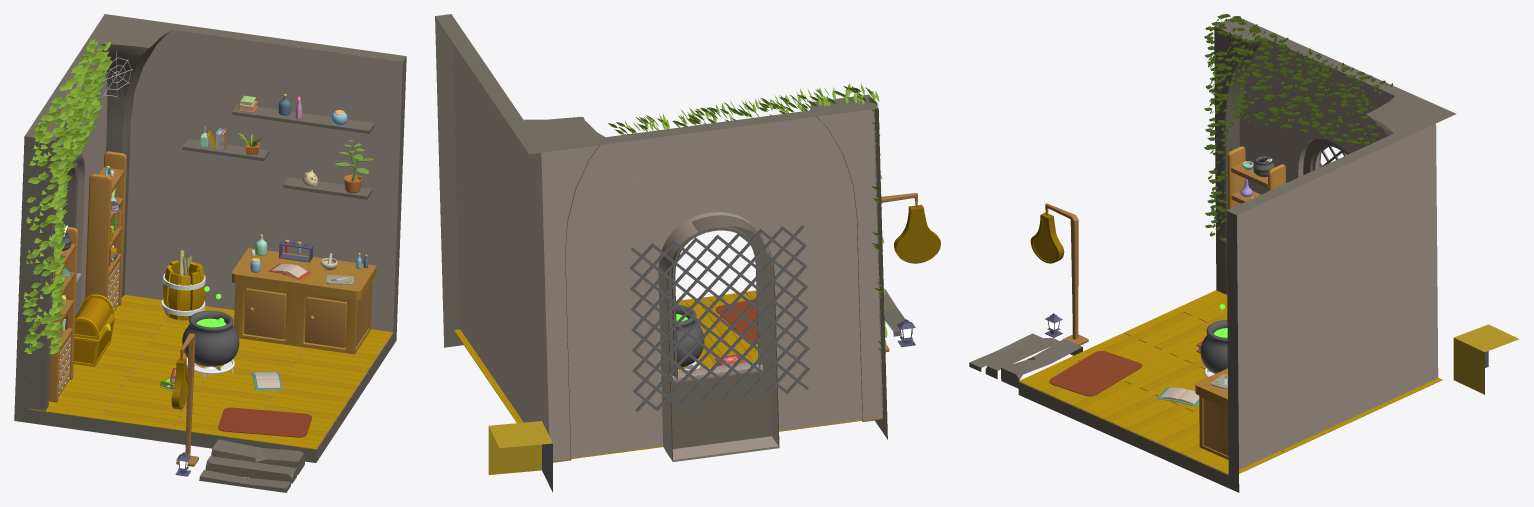
Rendered from potion-shop-final-4.glb.
3 views of the same model, side by side, from view 1: azimuth 30°, elevation 25°; view 2: azimuth 150°, elevation 25°; view 3: azimuth 270°, elevation 25° (orthographic). The views are drawn at different scales.
Parts seen in each view (by area): view 1: room, table, lvy, library.001, library, cauldron, carpet, barril, sign, step-1, step-2, shelves (+8 smaller); view 2: room, Cube, lvy, sign, cauldron, carpet; view 3: room, lvy, carpet, Cube, sign, table, library, step-1, cauldron, step-2, step-3.
Part boxes in pixels (x1,y1,x2,y2): room: [14, 14, 406, 462]; table: [231, 248, 376, 354]; lvy: [22, 39, 111, 354]; library.001: [85, 151, 126, 311]; library: [48, 226, 78, 402]; cauldron: [182, 310, 239, 379]; carpet: [218, 407, 311, 437]; barril: [161, 260, 205, 320]; sign: [171, 333, 198, 466]; step-1: [211, 439, 304, 475]; step-2: [205, 456, 296, 483]; shelves: [232, 104, 374, 133]; room: [435, 14, 887, 462]; Cube: [488, 421, 552, 492]; lvy: [608, 83, 887, 351]; sign: [881, 193, 940, 351]; cauldron: [676, 305, 704, 371]; carpet: [715, 299, 757, 343]; room: [1018, 17, 1456, 492]; lvy: [1204, 14, 1392, 242]; carpet: [1049, 351, 1142, 396]; Cube: [1453, 324, 1519, 394]; sign: [1030, 203, 1088, 345]; table: [1195, 368, 1228, 459]; library: [1227, 146, 1285, 209]; step-1: [1001, 339, 1082, 388]; cauldron: [1200, 320, 1227, 377]; step-2: [985, 338, 1059, 379]; step-3: [969, 333, 1043, 371].
Bounding box in the file's own units: 19.22 × 14.25 × 23.49.
